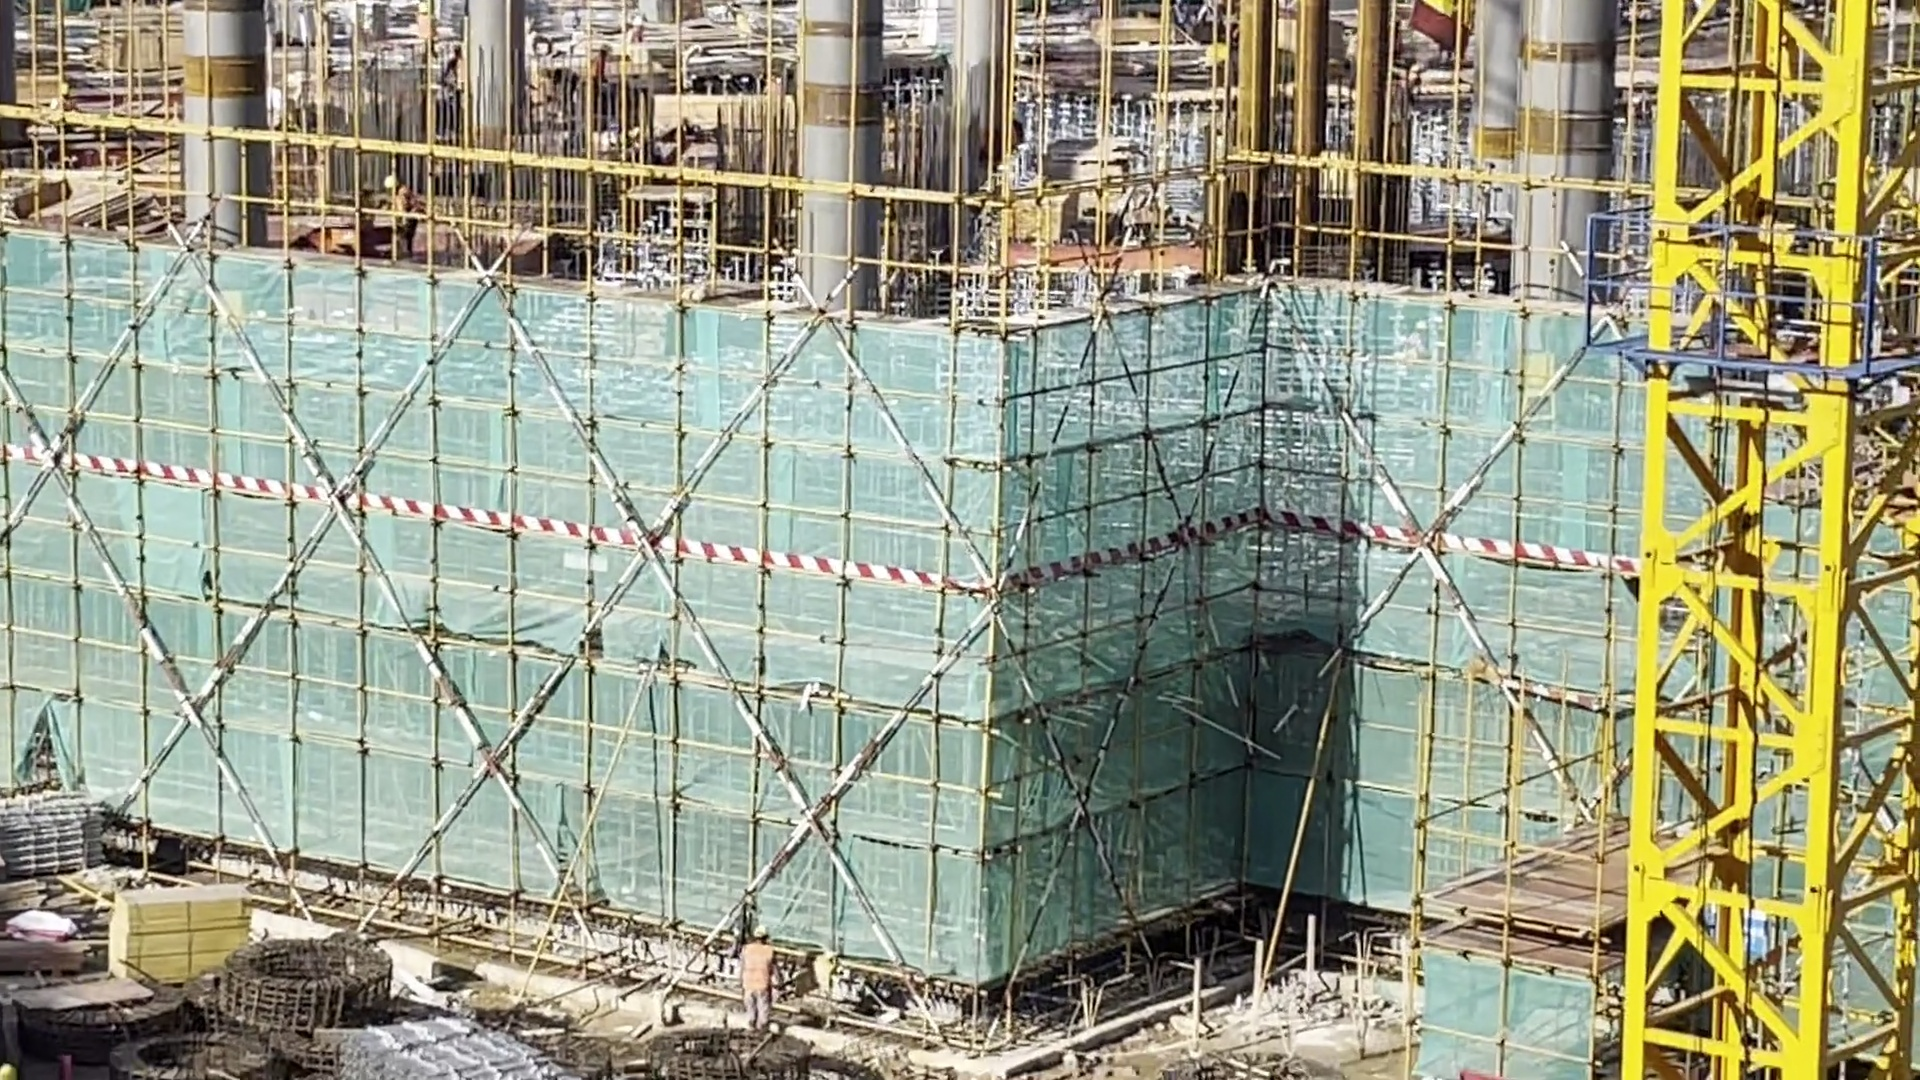board: (116, 893, 252, 985)
person: (385, 173, 420, 261), (744, 930, 773, 1027)
scaffold: (348, 1027, 532, 1080), (1, 799, 109, 865)
vest: (738, 943, 769, 995)
